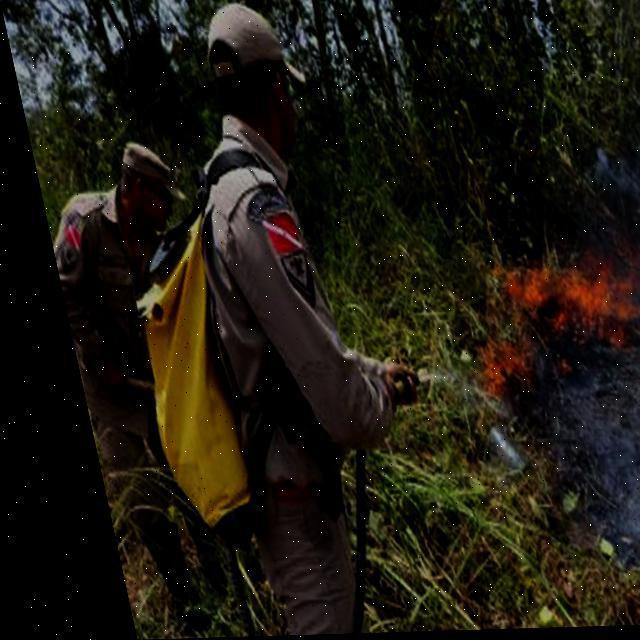Fire: (475, 251, 639, 343), (452, 339, 516, 392)
